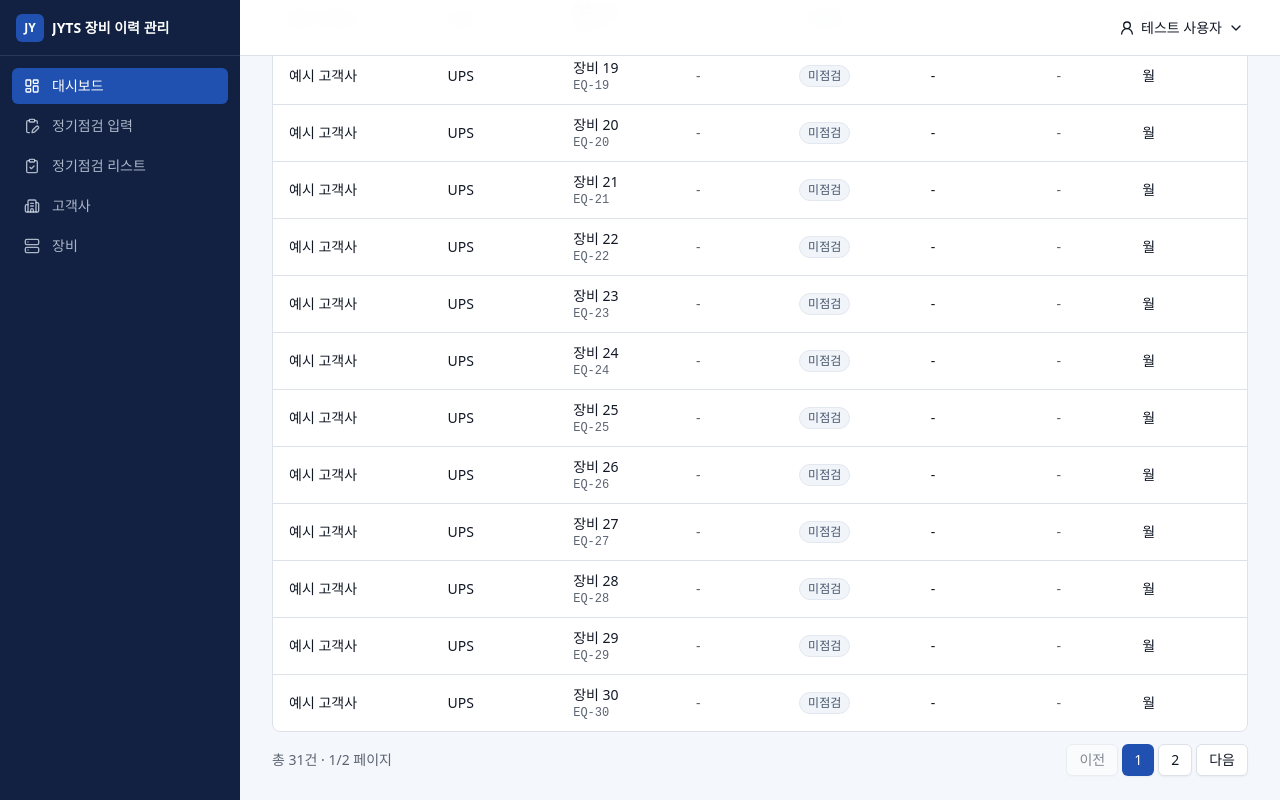
Test: dashboard › pages the table by thirty rows
(page scrolled)
Expected: the text "총 31건 · 1/2 페이지" is shown, [272,750,392,770]
Click the button "다음" at (1222, 760), box [1196,744,1248,776]
(page scrolled)
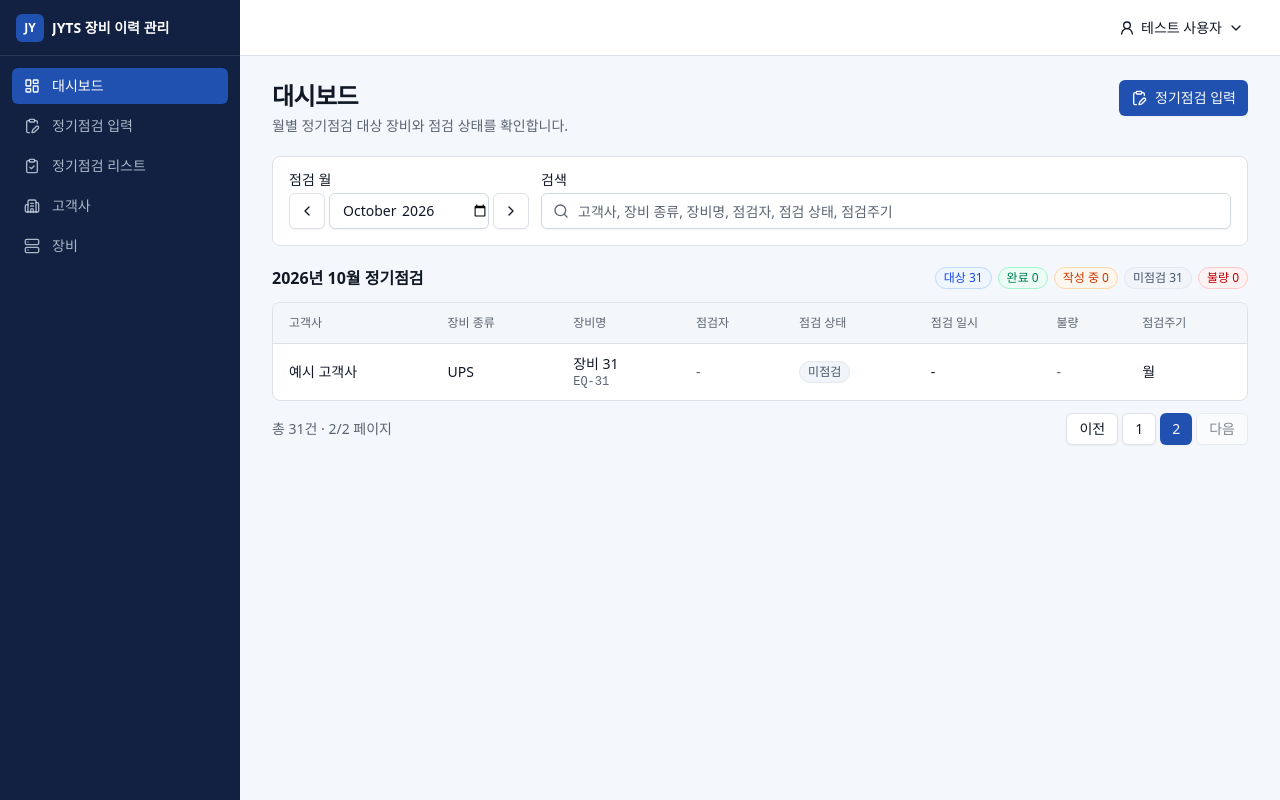
Now the link "장비 31" is shown, box [573,354,619,372]
Type "장비 0" into the search field labelled "검색" at (886, 211), box [541,193,1231,229]
(page scrolled)
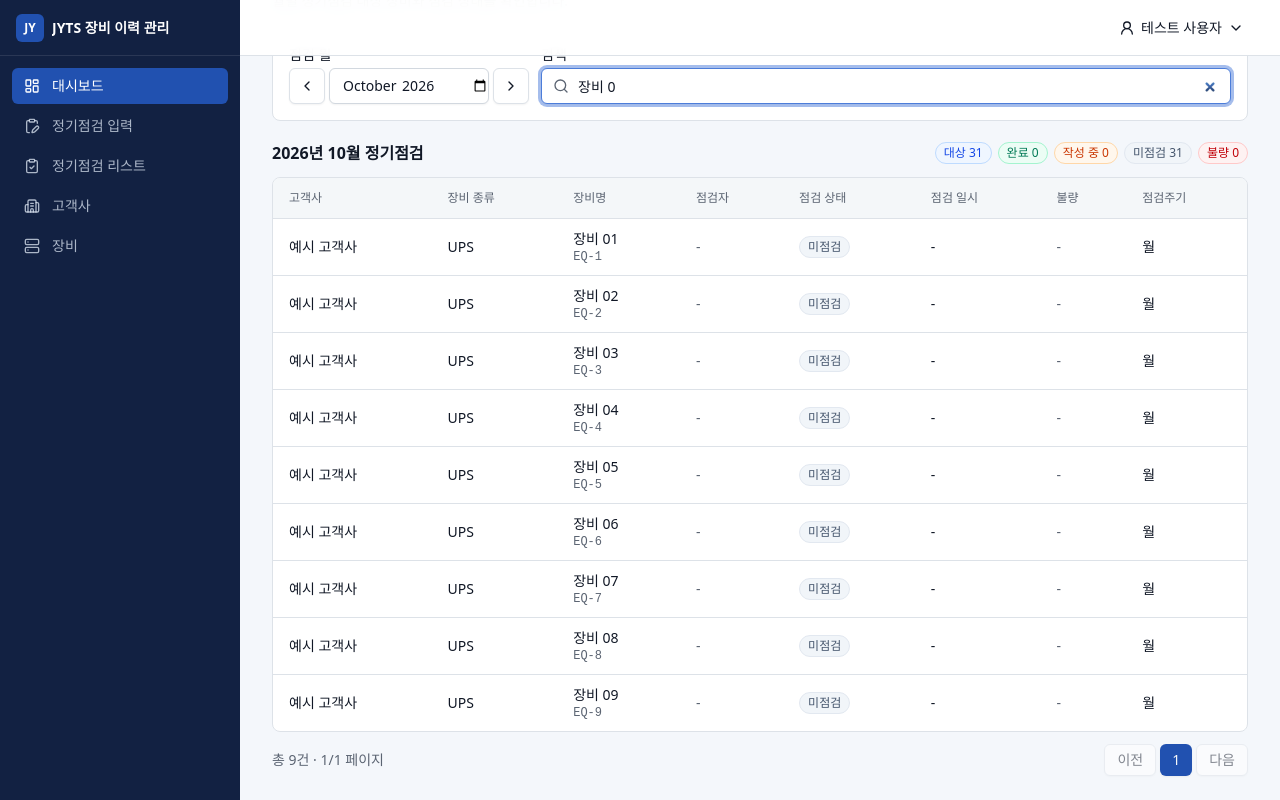
Now the text "총 9건 · 1/1 페이지" is shown, box [272,750,384,770]
